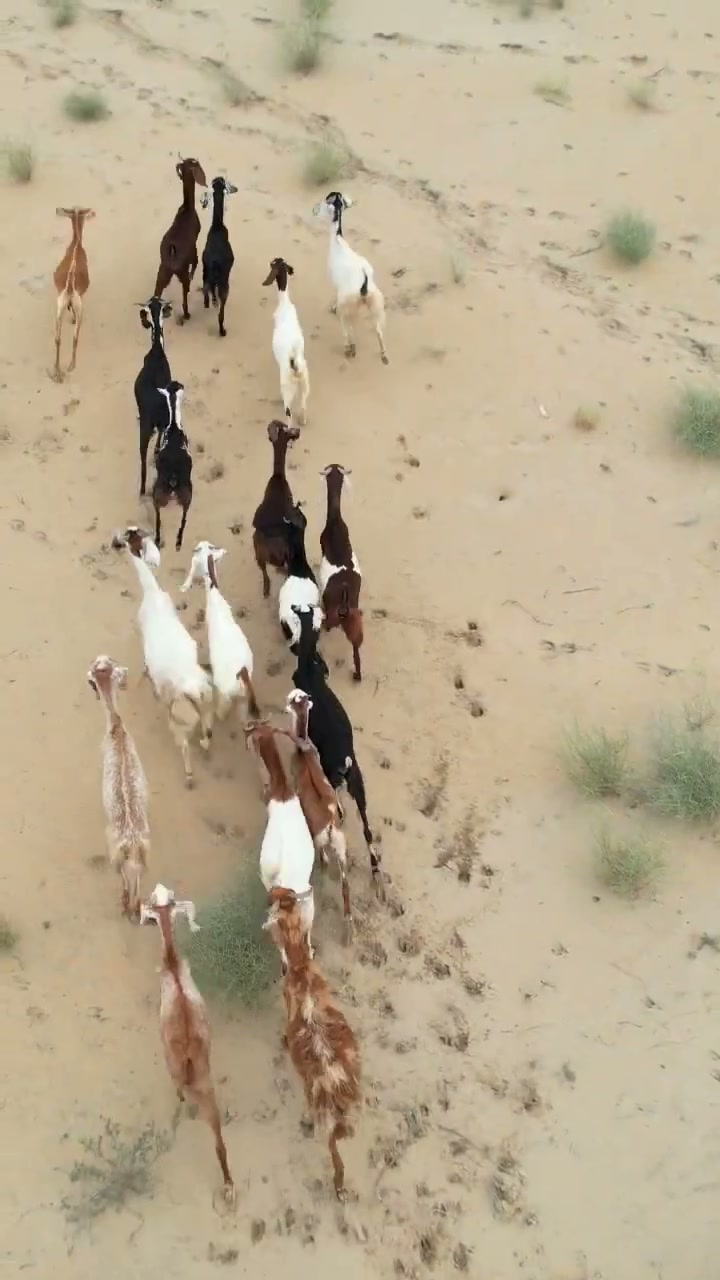animal_foot_print: (300, 374, 542, 1262)
